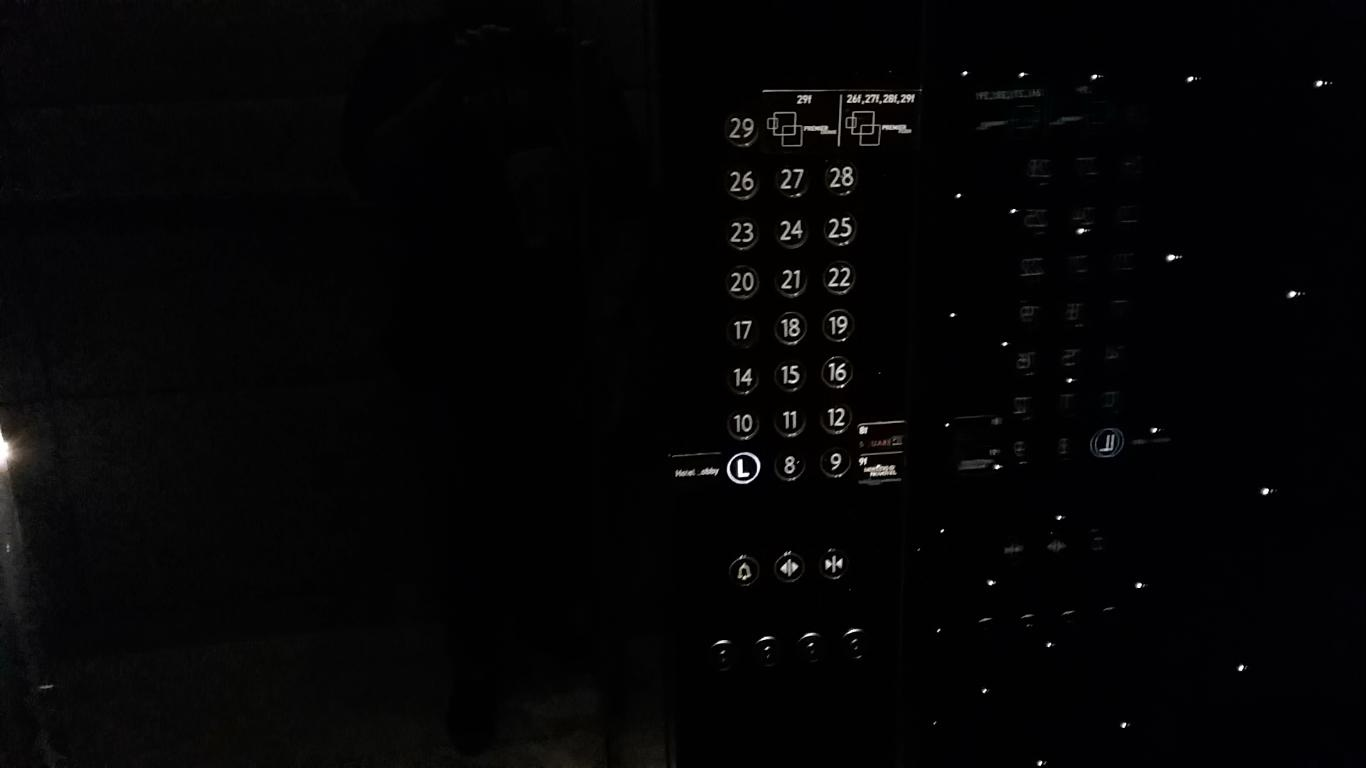10: (723, 404, 763, 445)
11: (771, 399, 811, 440)
12: (817, 397, 857, 438)
14: (724, 358, 764, 399)
15: (771, 354, 811, 395)
16: (817, 351, 857, 392)
17: (722, 310, 762, 351)
18: (770, 306, 810, 347)
19: (817, 302, 857, 343)
20: (721, 261, 761, 302)
21: (771, 259, 811, 300)
22: (819, 256, 859, 297)
23: (722, 209, 765, 253)
24: (773, 210, 816, 254)
25: (820, 206, 863, 250)
26: (722, 159, 765, 203)
27: (773, 156, 816, 200)
28: (819, 154, 862, 198)
29: (722, 108, 765, 152)
8: (770, 444, 810, 485)
9: (814, 440, 854, 481)
L: (723, 447, 763, 488)
alarm: (727, 550, 762, 589)
close: (816, 543, 851, 582)
open: (773, 546, 808, 585)
